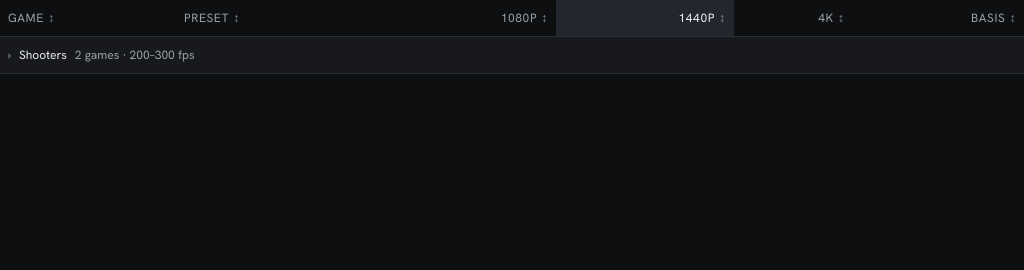
Test: FrameRateTable › opens one row at a time, closing the one before it
Click the button "› Shooters 2 games · 200–300 fps".
click(43, 55)  # box [8, 43, 1016, 67]
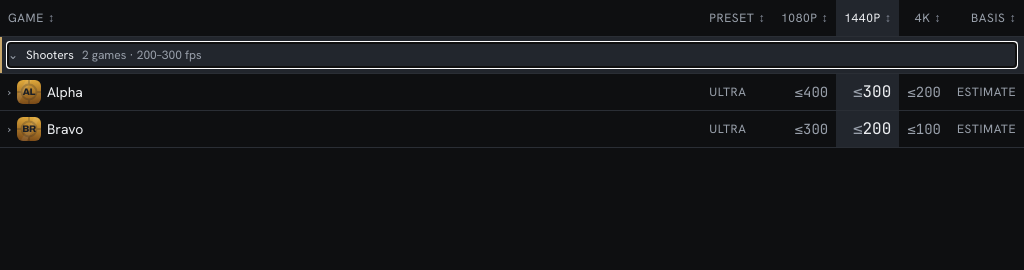
Click the button "› AL Alpha".
click(65, 92)  # box [8, 80, 701, 104]
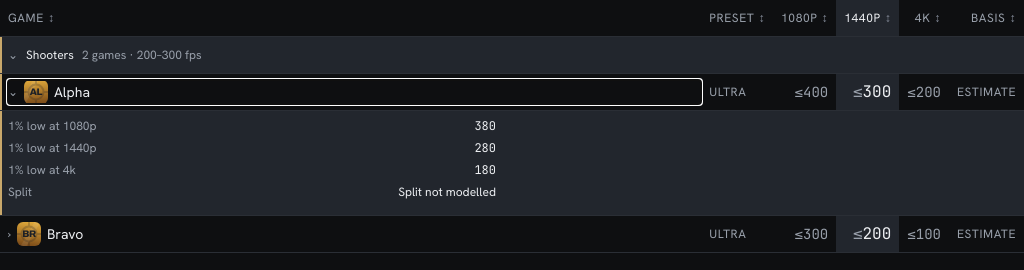
Click the button "› BR Bravo".
click(65, 234)  # box [8, 222, 701, 246]
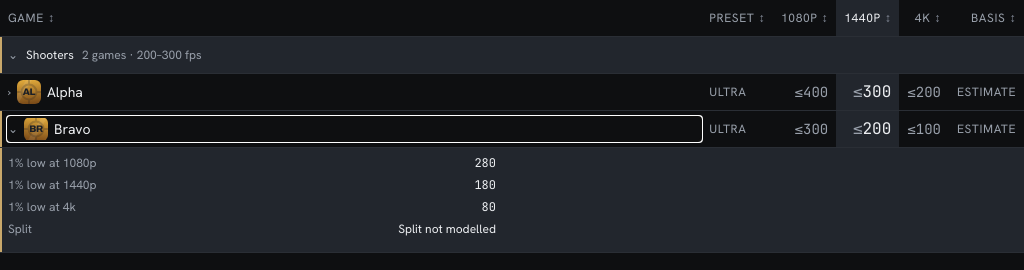
Now the button "› AL Alpha" is collapsed, box [8, 80, 701, 104]
Now the button "⌄ BR Bravo" is expanded, box [8, 117, 701, 141]
